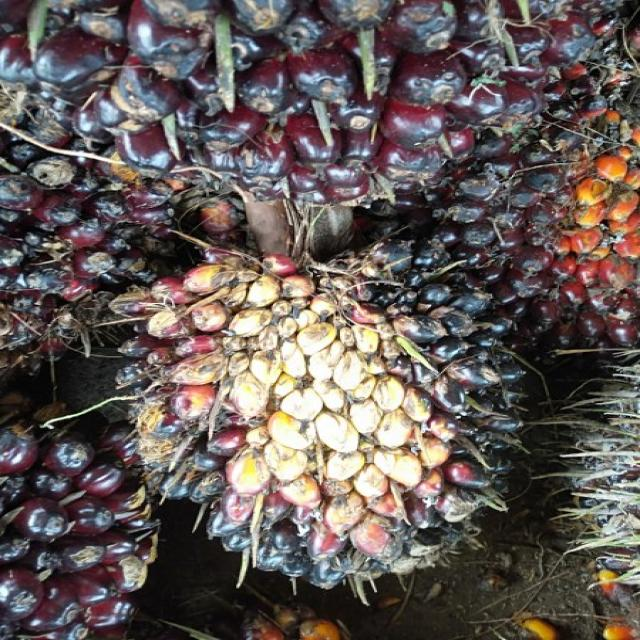fraksi 00: (111, 242, 537, 597)
